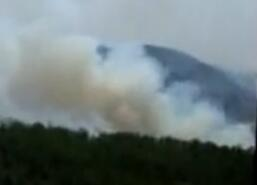yanwu: (0, 0, 254, 148)
